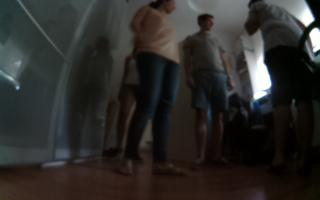person: (114, 1, 193, 177), (245, 1, 320, 171), (182, 10, 242, 170), (114, 43, 145, 161)
